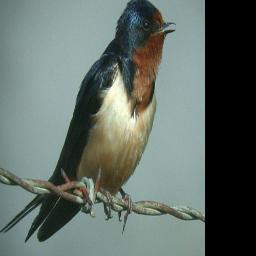Swallow: (0, 0, 177, 243)
